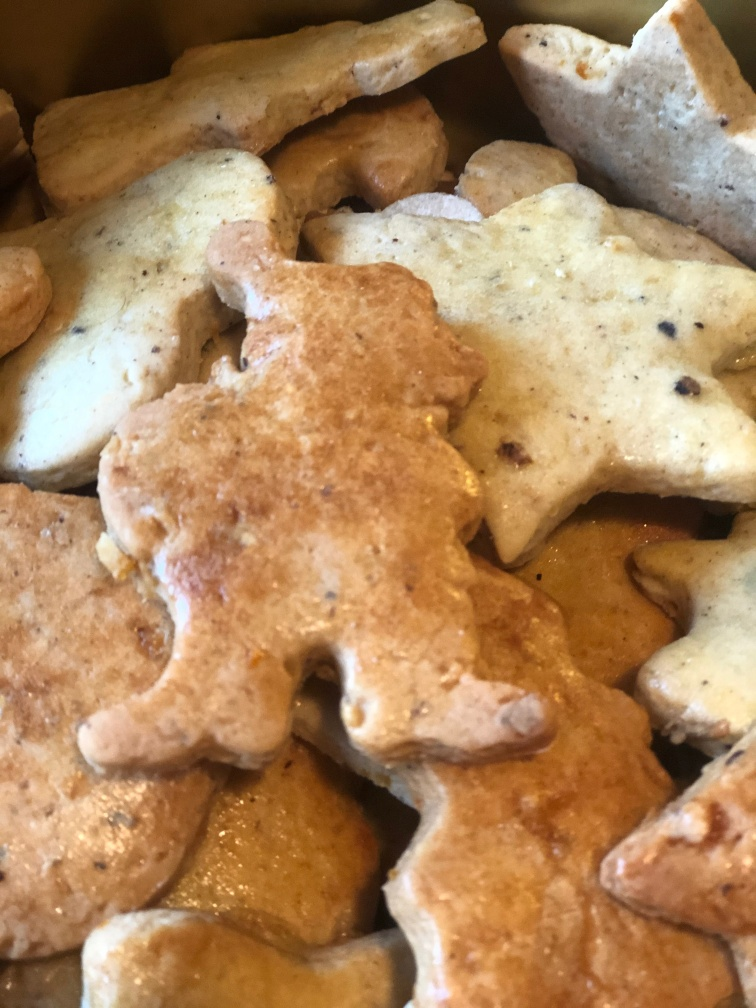flake: (4, 146, 282, 488)
king mage: (28, 1, 485, 212)
santa claus: (73, 218, 555, 785)
star: (303, 180, 756, 565), (502, 1, 756, 250)
